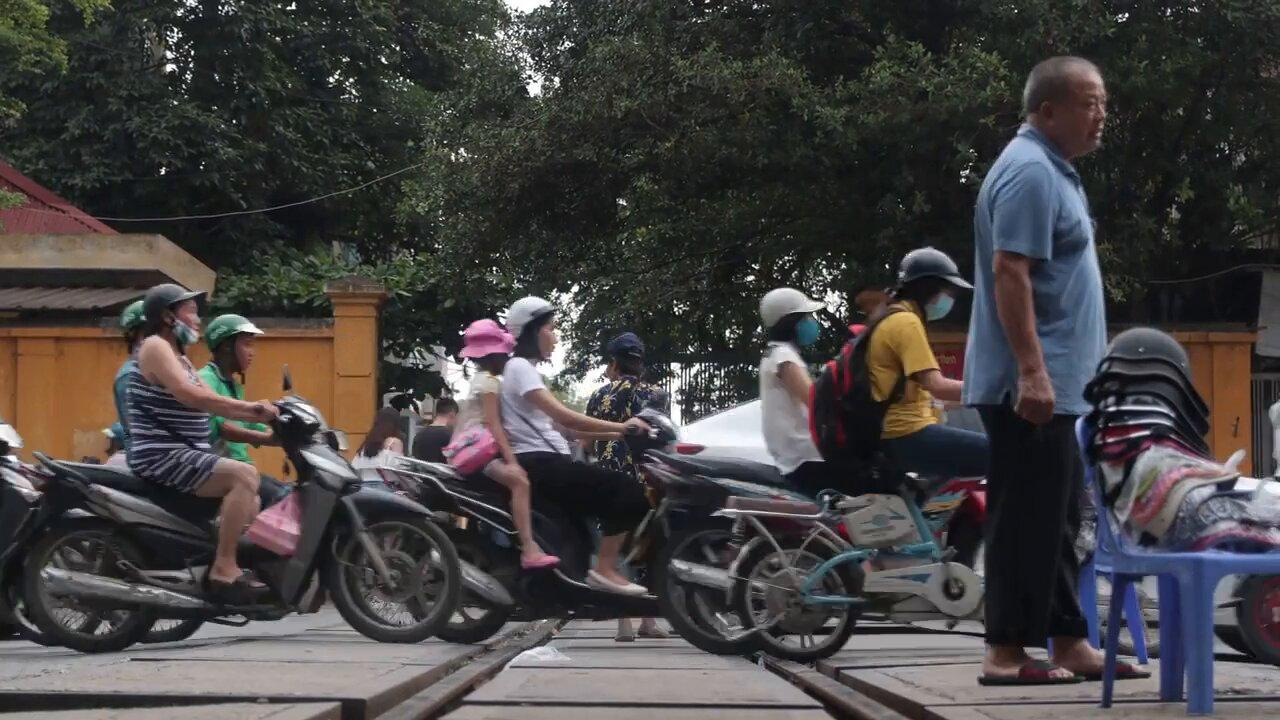bicyclist: (714, 247, 984, 663)
driver: (2, 283, 461, 653), (405, 297, 681, 645)
helmet: (896, 245, 975, 325), (143, 282, 209, 357), (760, 287, 827, 355), (205, 315, 265, 384), (507, 297, 560, 362)
no-helmet: (1020, 55, 1107, 158), (458, 318, 519, 376), (604, 331, 645, 381)
